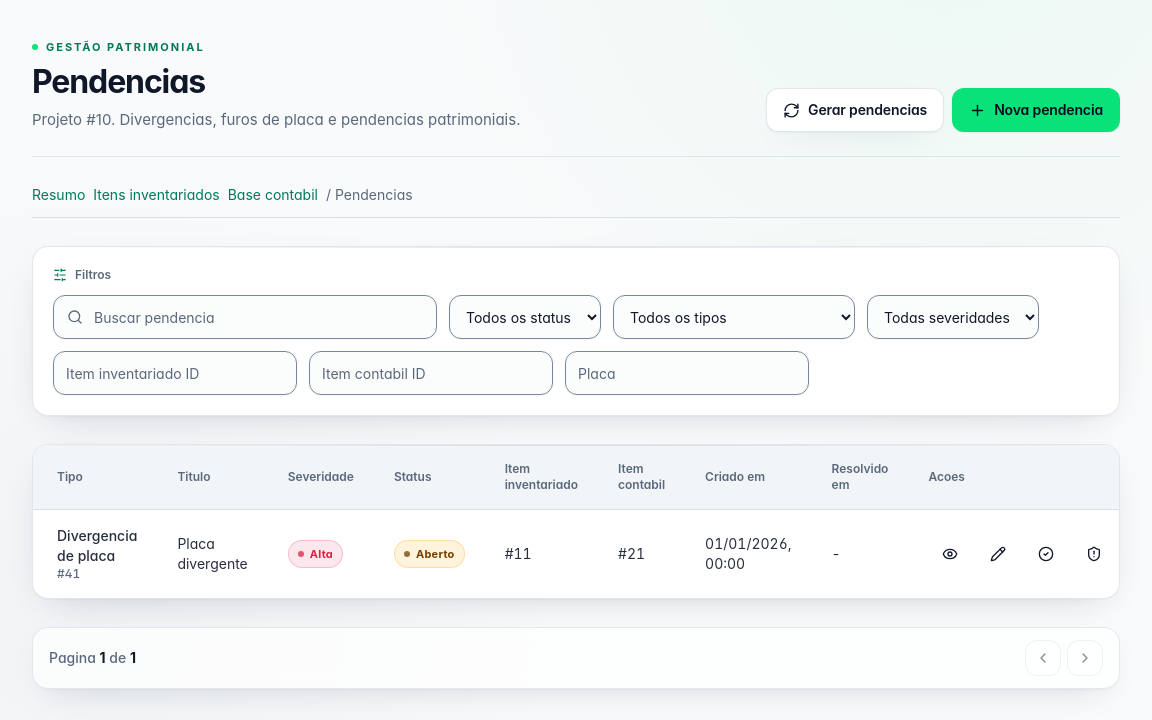
Test: ProjectPendingIssuesPage › resolver exige observacoes
Click the button named "Resolver pendencia". click: (1046, 554)
box: [1024,532,1068,576]
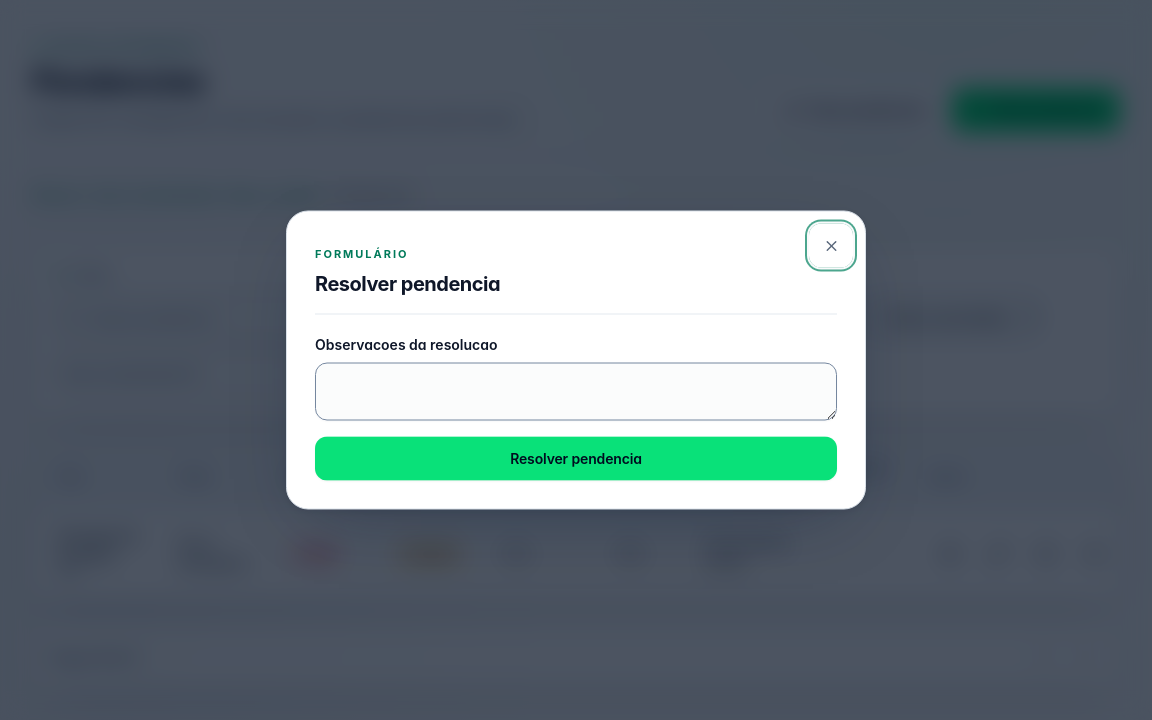
Click the button "Resolver pendencia". click: (576, 458)
box: [315,436,837,480]
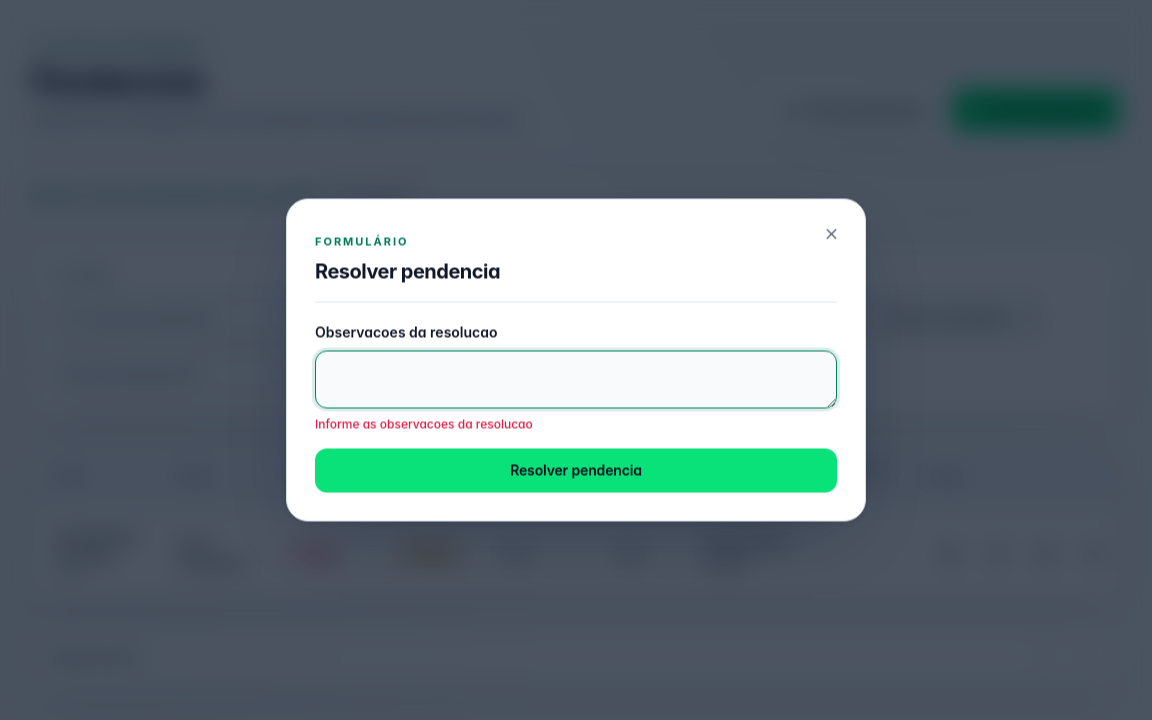
Expected: the text "Informe as observacoes da resolucao" is shown, [315,416,533,432]
